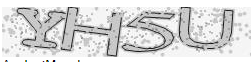5: (120, 10, 175, 53)
H: (60, 5, 124, 58)
U: (178, 6, 235, 50)
Y: (14, 6, 67, 51)
